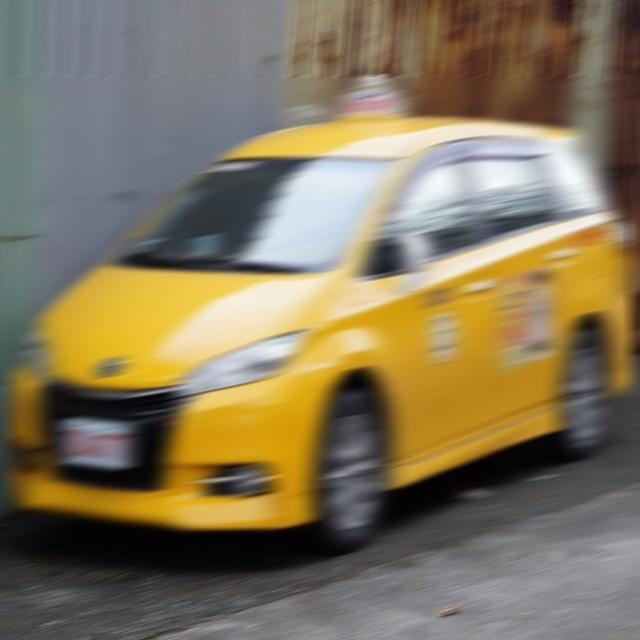Taxi: (8, 77, 633, 550)
